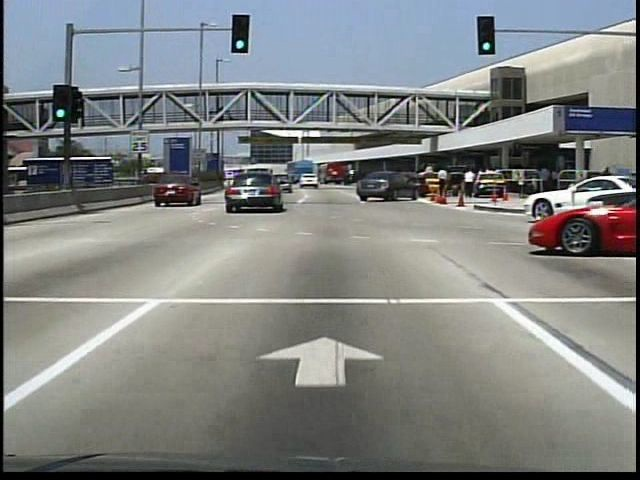person: (435, 167, 453, 204), (513, 171, 529, 205), (461, 171, 477, 202), (536, 167, 549, 192), (216, 105, 225, 124)
